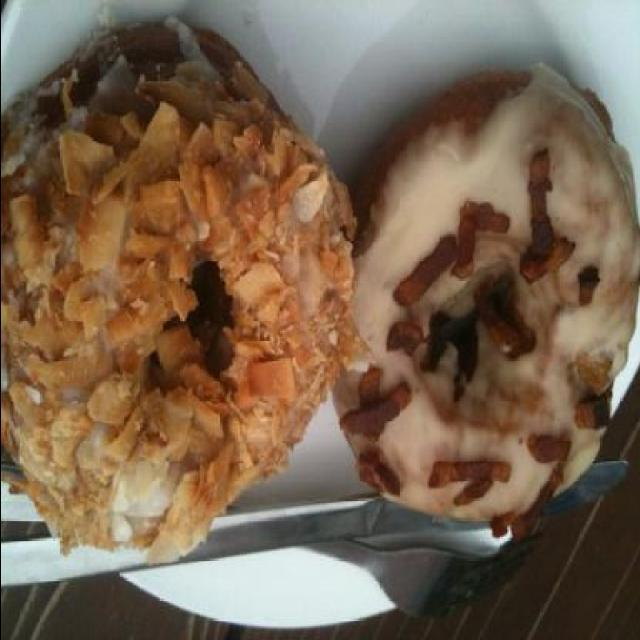Donuts: (2, 24, 636, 622)
